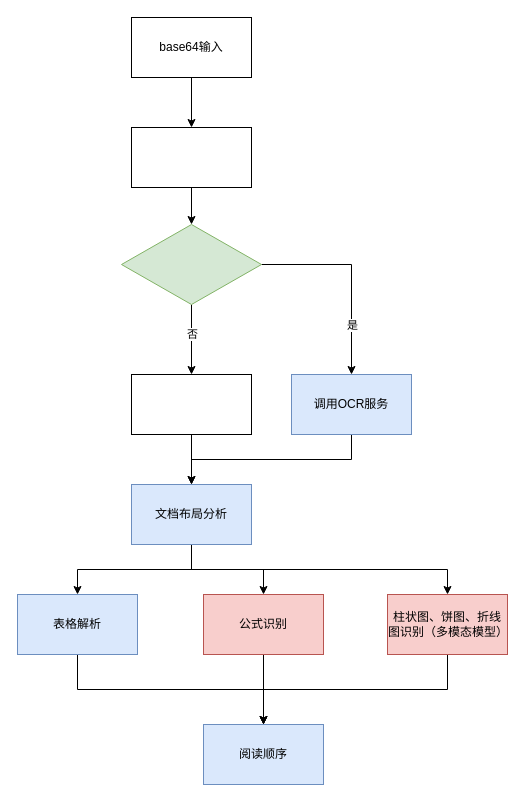
Some shapes in this 525 by 802 pixel diagram are drawn without their labels. Here are the shapes that lost their labels. From the top down, the box of each, then its label:
(130, 126, 252, 188): 转图片
(120, 224, 262, 304): 判断是否是图片pdf
(130, 374, 252, 434): 直接解析文字内容和位置
